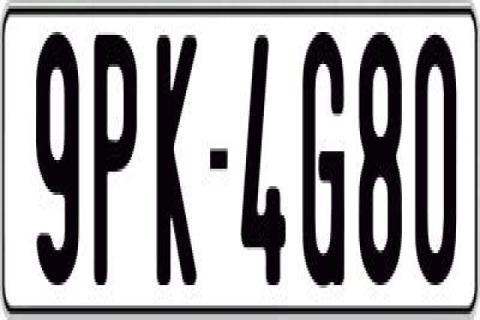0: (241, 29, 294, 279), (34, 32, 82, 285), (412, 35, 456, 303), (358, 23, 404, 276)
G: (303, 29, 347, 285)
K: (156, 32, 200, 300)
P: (94, 29, 140, 288)
